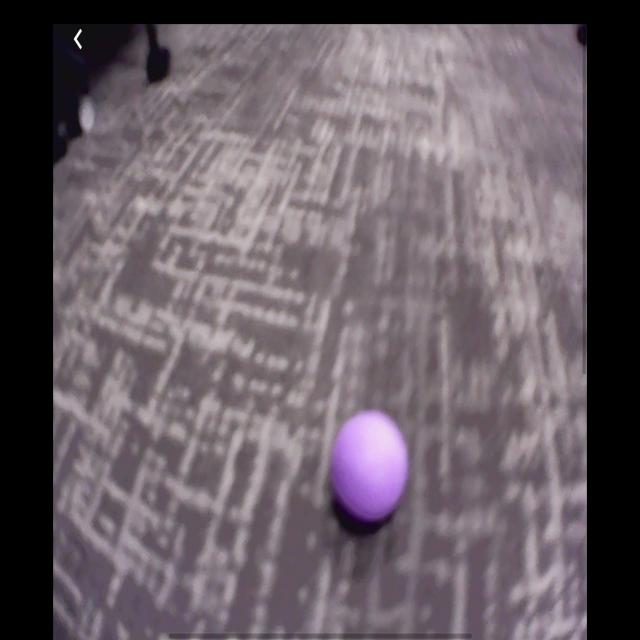ball: (330, 409, 411, 530)
